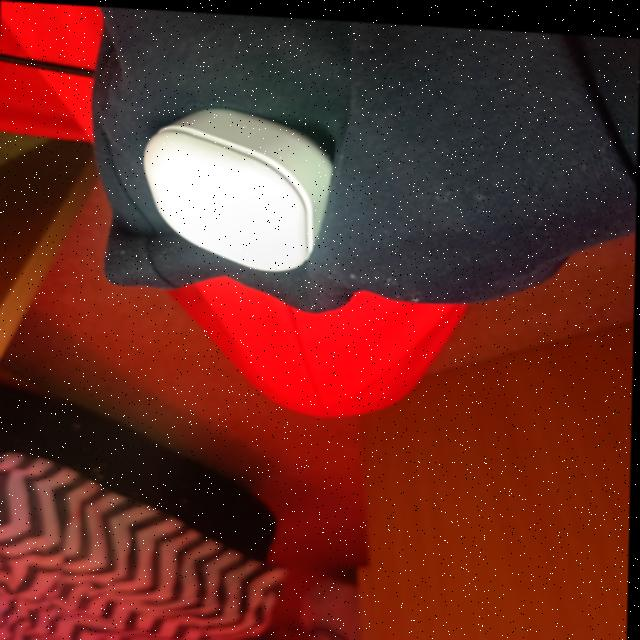headphones: (143, 104, 333, 267)
